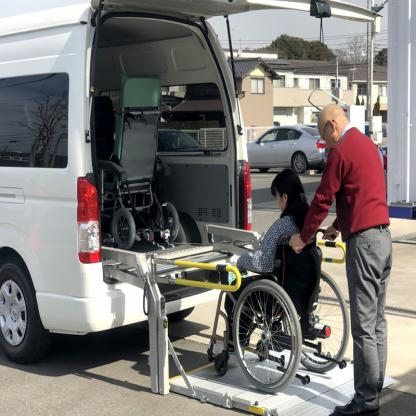wheelchair: (211, 167, 353, 389)
